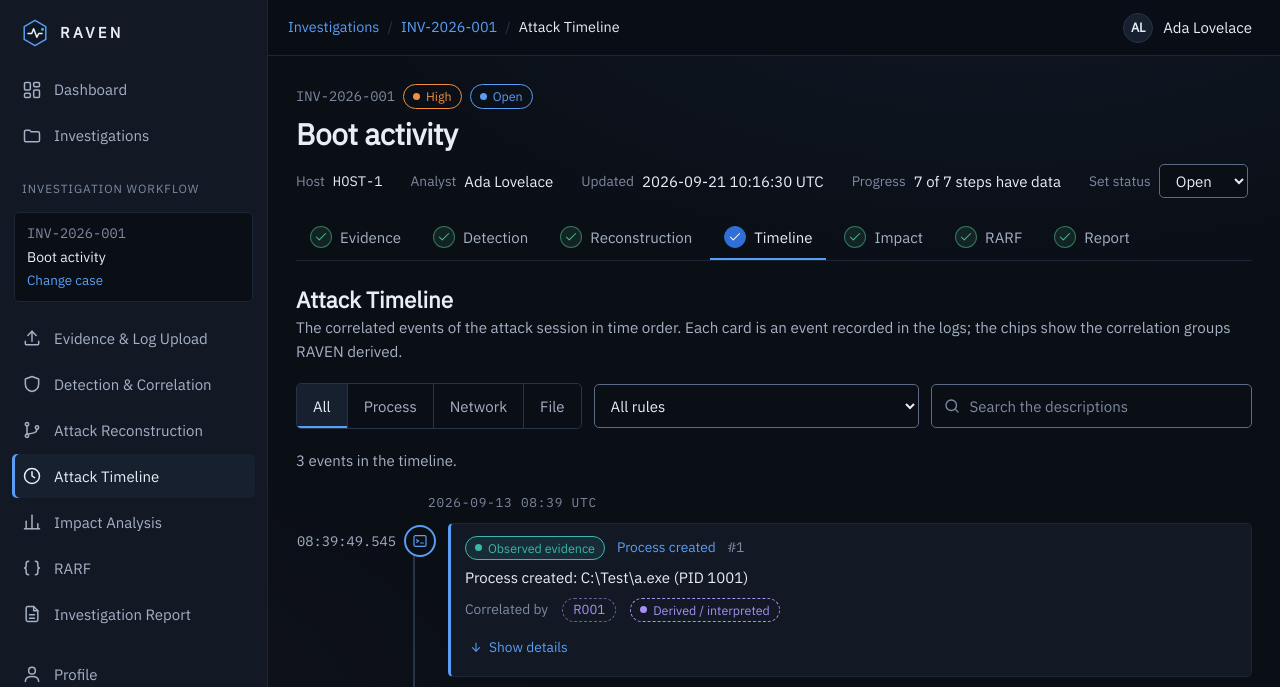
Test: Timeline: filters › filters by event type on the server
Expected: the heading "Attack Timeline" is shown, [296,285,453,314]
Expected: the text "3 events in the timeline." is shown, [296,452,457,470]
What coordinates should you click on to do the following:
click the button "Network"
I would click on:
 (479, 406)
Its box is [434,384,524,428].
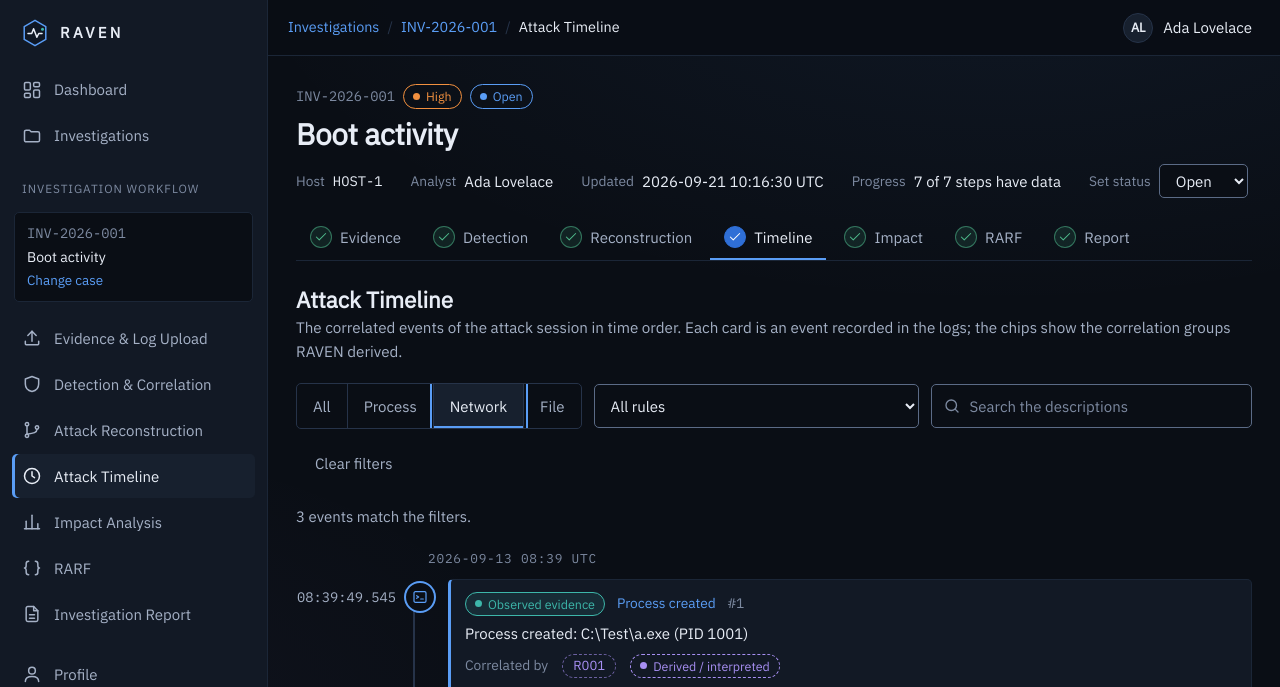
Result: the button "Clear filters" is shown at [296,442,412,486]
